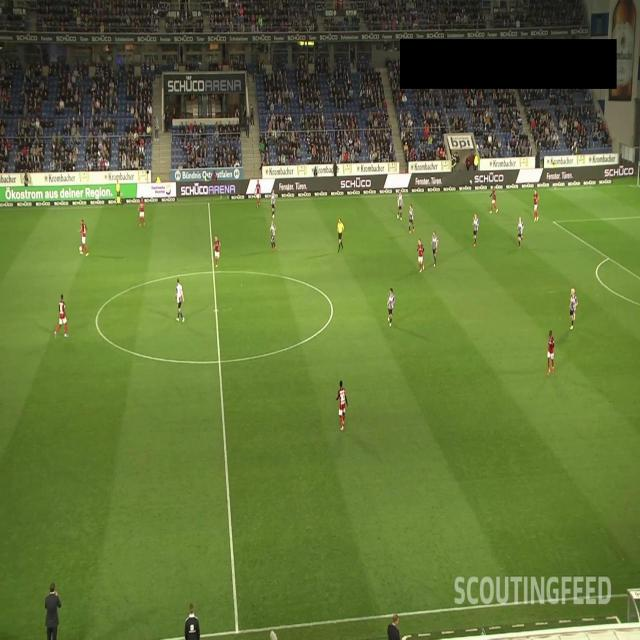player: (53, 293, 69, 339), (336, 380, 348, 430), (174, 278, 186, 322), (77, 218, 89, 256), (386, 287, 396, 327), (547, 329, 555, 375), (570, 288, 578, 330), (430, 230, 439, 267), (489, 186, 499, 214), (532, 188, 540, 222), (417, 238, 425, 272), (138, 196, 146, 228), (396, 191, 404, 221), (213, 234, 220, 268), (473, 212, 479, 248), (408, 204, 415, 234), (518, 216, 524, 249), (270, 220, 276, 251), (255, 180, 261, 208), (271, 190, 277, 217)
referee: (337, 217, 345, 253), (116, 179, 120, 204)
